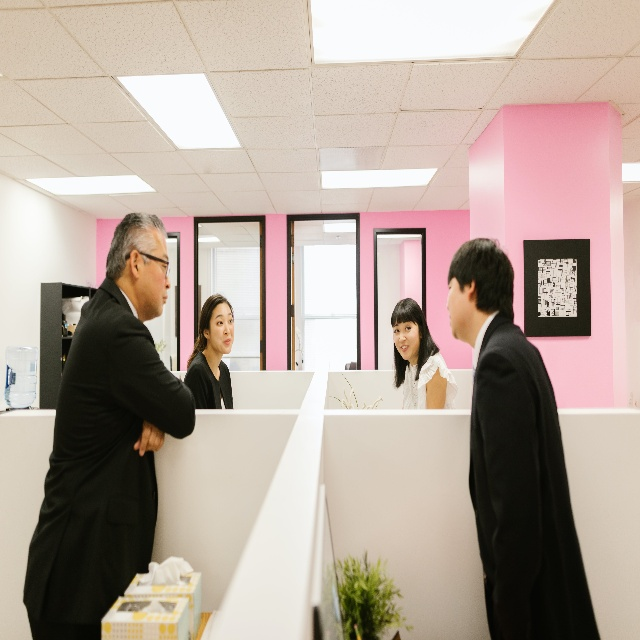Gafas: (143, 252, 170, 278)
Sin_guantes: (132, 420, 165, 456)
